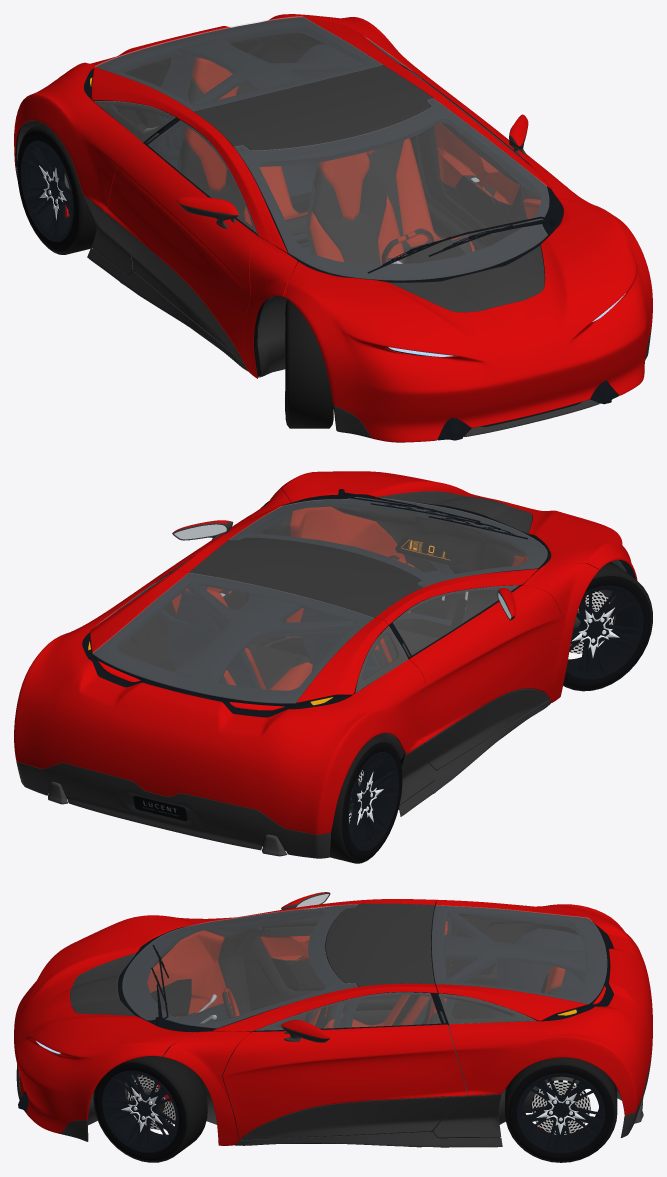
The model's file is lucent-vision.glb.
3 renders of one model, top to bottom at view 1: azimuth 30°, elevation 25°; view 2: azimuth 150°, elevation 25°; view 3: azimuth 270°, elevation 25°, orthographic. The views are drawn at different scales.
Visible parts, largest first — view 1: BodyHood, BodyWindshield, BodyRearwindow, BodyDoorRColor1, BodyRearPanelsColor1, BodyRoofPanel, BodyWindshieldGasket, InteriorSeatsColor1, InteriorSeatsColor2, BodyPillars, InteriorPillar, InteriorRearHatch (+21 smaller); view 2: BodyRearPanelsColor1, BodyRearwindow, BodyWindshield, BodyDoorRColor1, BodyPanelsColor2, BodyRoofPanel, BodyHood, InteriorRearHatch, BodyPillars, InteriorPillar, BodyWindshieldGasket, InteriorDashMid (+22 smaller); view 3: BodyRearPanelsColor1, BodyWindshield, BodyDoorLColor1, BodyHood, BodyRearwindow, BodyRoofPanel, BodyPillars, BodyWindshieldGasket, BodyDoorLColor2, BodyPanelsColor2, WheelFrontL, InteriorRearHatch (+25 smaller).
Part boxes in pixels (x1,y1,x2,y2): BodyHood: (283, 198, 652, 442); BodyWindshield: (234, 98, 549, 280); BodyRearwindow: (95, 16, 382, 110); BodyDoorRColor1: (104, 143, 257, 362); BodyRearPanelsColor1: (14, 14, 428, 210); BodyRoofPanel: (193, 65, 432, 150); BodyWindshieldGasket: (234, 99, 563, 282); InteriorSeatsColor1: (185, 57, 475, 264); InteriorSeatsColor2: (180, 78, 472, 264); BodyPillars: (176, 61, 598, 378); InteriorPillar: (158, 37, 434, 168); InteriorRearHatch: (93, 17, 383, 117); BodyRearPanelsColor1: (14, 569, 425, 834); BodyRearwindow: (92, 573, 373, 703); BodyWindshield: (229, 497, 547, 587); BodyDoorRColor1: (409, 585, 562, 742); BodyPanelsColor2: (16, 700, 550, 858); BodyRoofPanel: (189, 537, 422, 617); BodyHood: (279, 471, 637, 580); InteriorRearHatch: (93, 573, 386, 707); BodyPillars: (175, 489, 599, 702); InteriorPillar: (174, 574, 417, 682); BodyWindshieldGasket: (230, 497, 550, 587); InteriorDashMid: (331, 503, 528, 622); BodyRearPanelsColor1: (436, 899, 652, 1115); BodyWindshield: (122, 904, 357, 1028); BodyDoorLColor1: (222, 1024, 467, 1139); BodyHood: (14, 915, 196, 1133); BodyRearwindow: (432, 905, 606, 1003); BodyRoofPanel: (326, 903, 434, 986); BodyPillars: (163, 899, 437, 1145); BodyWindshieldGasket: (118, 905, 357, 1032); BodyDoorLColor2: (240, 1096, 467, 1140); BodyPanelsColor2: (16, 1050, 652, 1147); WheelFrontL: (93, 1054, 207, 1162); InteriorRearHatch: (431, 905, 606, 1020).
Size of the model in its own units: 2.54 by 1.15 by 4.36.
23 materials, 6 textured.
